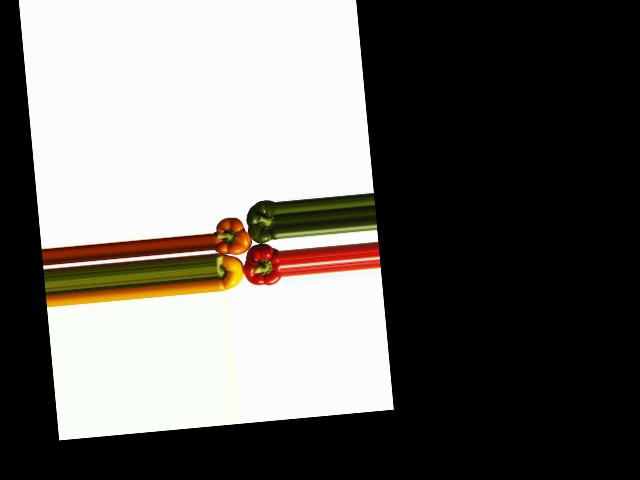bell_pepper: (214, 249, 247, 292)
